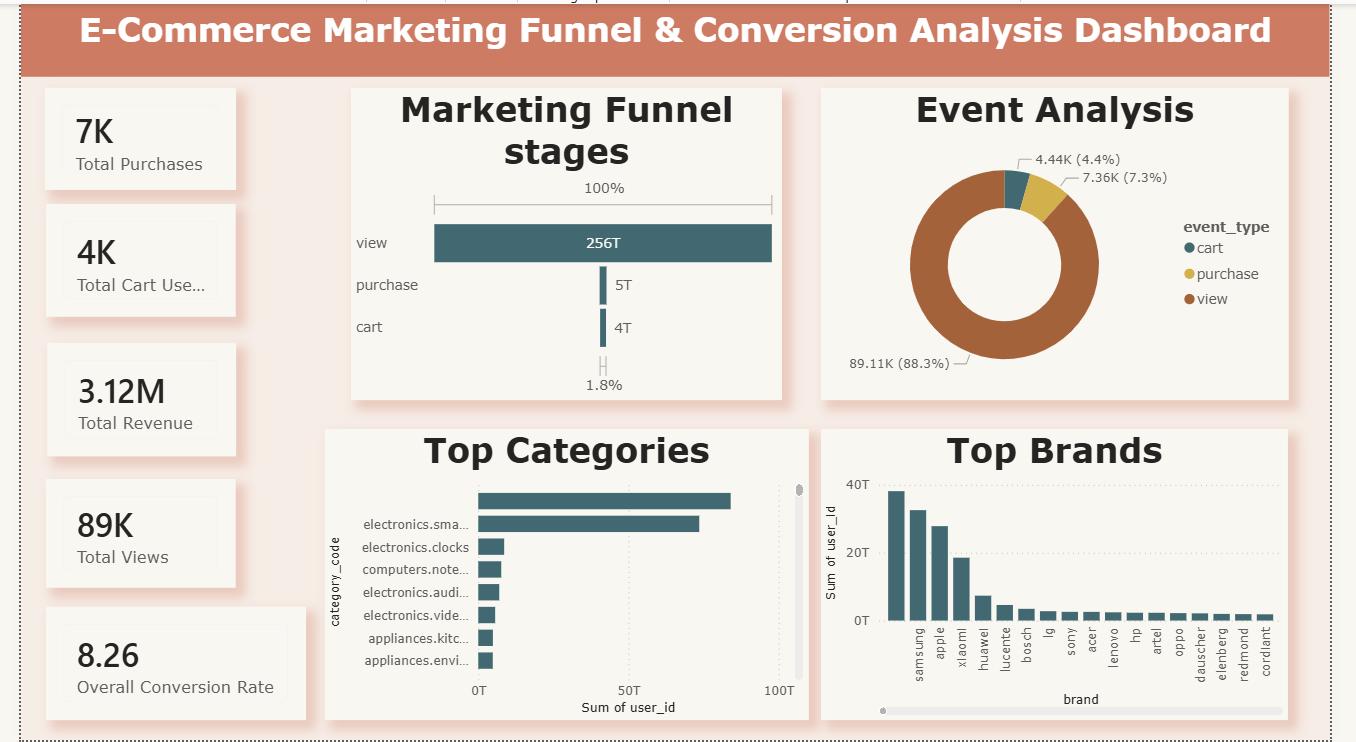

This screenshot's page, from the dashboard's own definition file:
{"tool":"powerbi","page":{"name":"Page 1","canvas":[1280,720],"ordinal":0},"visuals":[{"type":"textbox","box":[0,0,1280.3,70.9],"z":0},{"type":"cardVisual","fields":{"Data":["cleaned_funnel_data.Total Purchases"]},"box":[23.2,81.9,187.1,100.3],"z":1000},{"type":"cardVisual","fields":{"Data":["cleaned_funnel_data.Total Cart Users"]},"box":[24.5,195.7,185.9,110.1],"z":2000},{"type":"cardVisual","fields":{"Data":["cleaned_funnel_data.Total Revenue"]},"box":[25.7,331.4,184.6,111.3],"z":3000},{"type":"cardVisual","fields":{"Data":["cleaned_funnel_data.Overall Conversion Rate"]},"box":[24.5,589.4,254.3,111.3],"z":4000},{"type":"cardVisual","fields":{"Data":["cleaned_funnel_data.Total Views"]},"box":[24.5,464.7,185.9,106.4],"z":5000},{"type":"funnel","title":"Marketing Funnel stages","fields":{"Category":["cleaned_funnel_data.event_type"],"Y":["Sum(cleaned_funnel_data.user_id)"]},"box":[322.8,81.9,421.9,305.7],"z":6000},{"type":"donutChart","title":"Event Analysis","fields":{"Category":["cleaned_funnel_data.event_type"],"Y":["Count(cleaned_funnel_data.user_id)"]},"box":[782.6,81.9,457.3,305.7],"z":7000},{"type":"clusteredBarChart","title":"Top Categories","fields":{"Category":["cleaned_funnel_data.category_code"],"Y":["Sum(cleaned_funnel_data.user_id)"]},"box":[297.1,415.8,473.2,284.9],"z":8000},{"type":"columnChart","title":"Top Brands","fields":{"Category":["cleaned_funnel_data.brand"],"Y":["Sum(cleaned_funnel_data.user_id)"]},"box":[783,416,457,285],"z":9000}]}

Visuals, with their boxes in screenshot pixels (x1, y1, x2, y2), scaled from the page's 1280x720 canvas onto the 1356x742 screenshot:
textbox: select_region(0, 0, 1355, 73)
cardVisual - cleaned_funnel_data.Total Purchases: select_region(25, 84, 223, 188)
cardVisual - cleaned_funnel_data.Total Cart Users: select_region(26, 202, 223, 315)
cardVisual - cleaned_funnel_data.Total Revenue: select_region(27, 342, 223, 456)
cardVisual - cleaned_funnel_data.Overall Conversion Rate: select_region(26, 607, 295, 722)
cardVisual - cleaned_funnel_data.Total Views: select_region(26, 479, 223, 589)
"Marketing Funnel stages" funnel: select_region(342, 84, 789, 399)
"Event Analysis" donutChart: select_region(829, 84, 1314, 399)
"Top Categories" clusteredBarChart: select_region(315, 429, 816, 722)
"Top Brands" columnChart: select_region(829, 429, 1314, 722)
